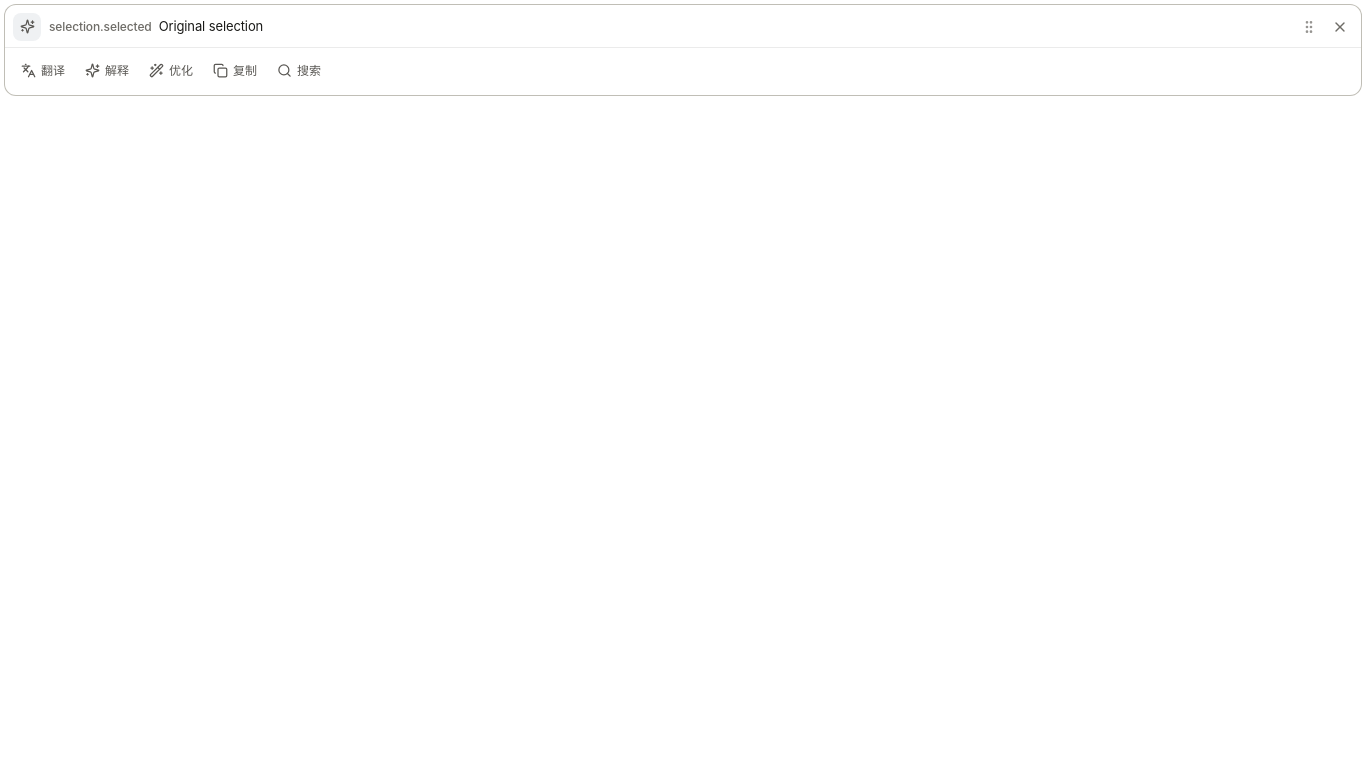
it: SelectionOverlay content and result actions › keeps the optimized result open when guarded replacement fails
expect the button "翻译" is enabled: met, box x1=12 y1=54 x2=74 y2=88
Click the button "优化": (171, 70) x1=140 y1=54 x2=202 y2=88
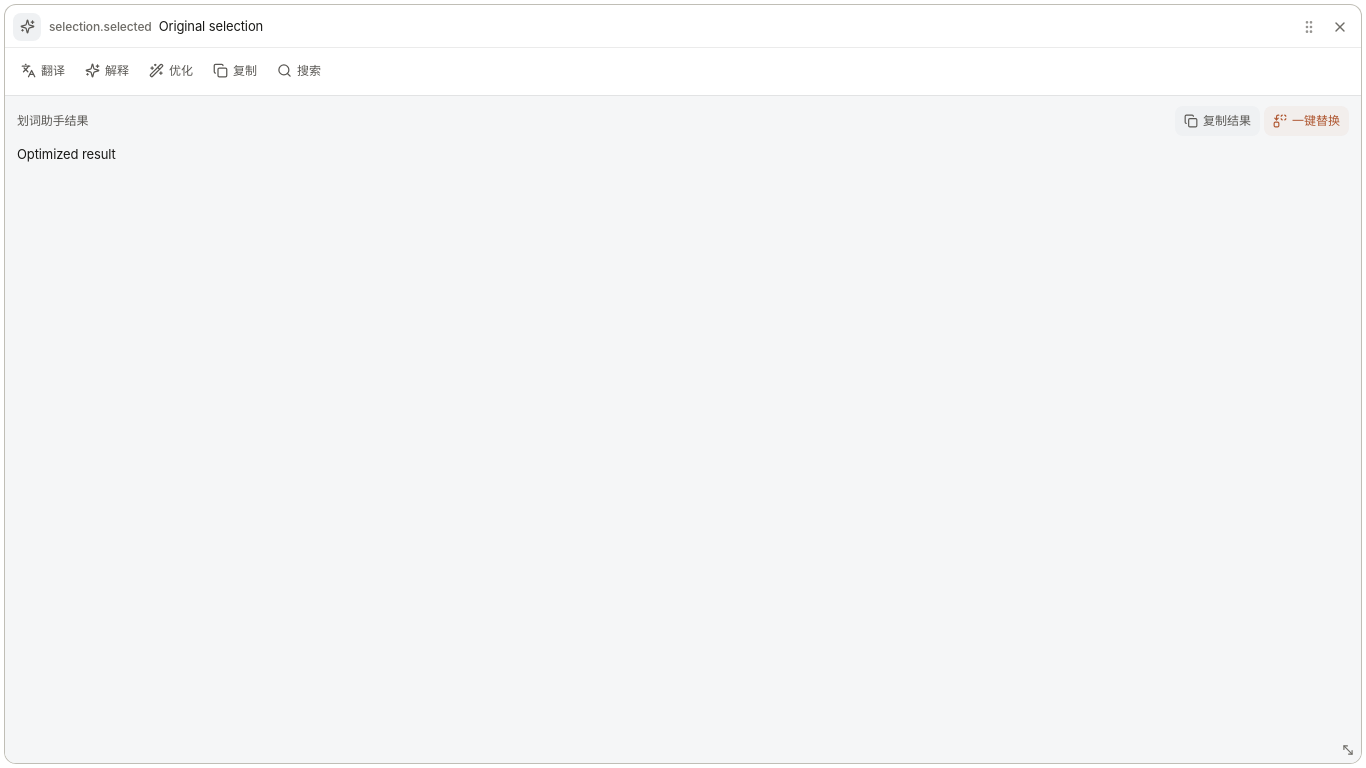
Click the button "一键替换": (1306, 121) x1=1264 y1=106 x2=1349 y2=136
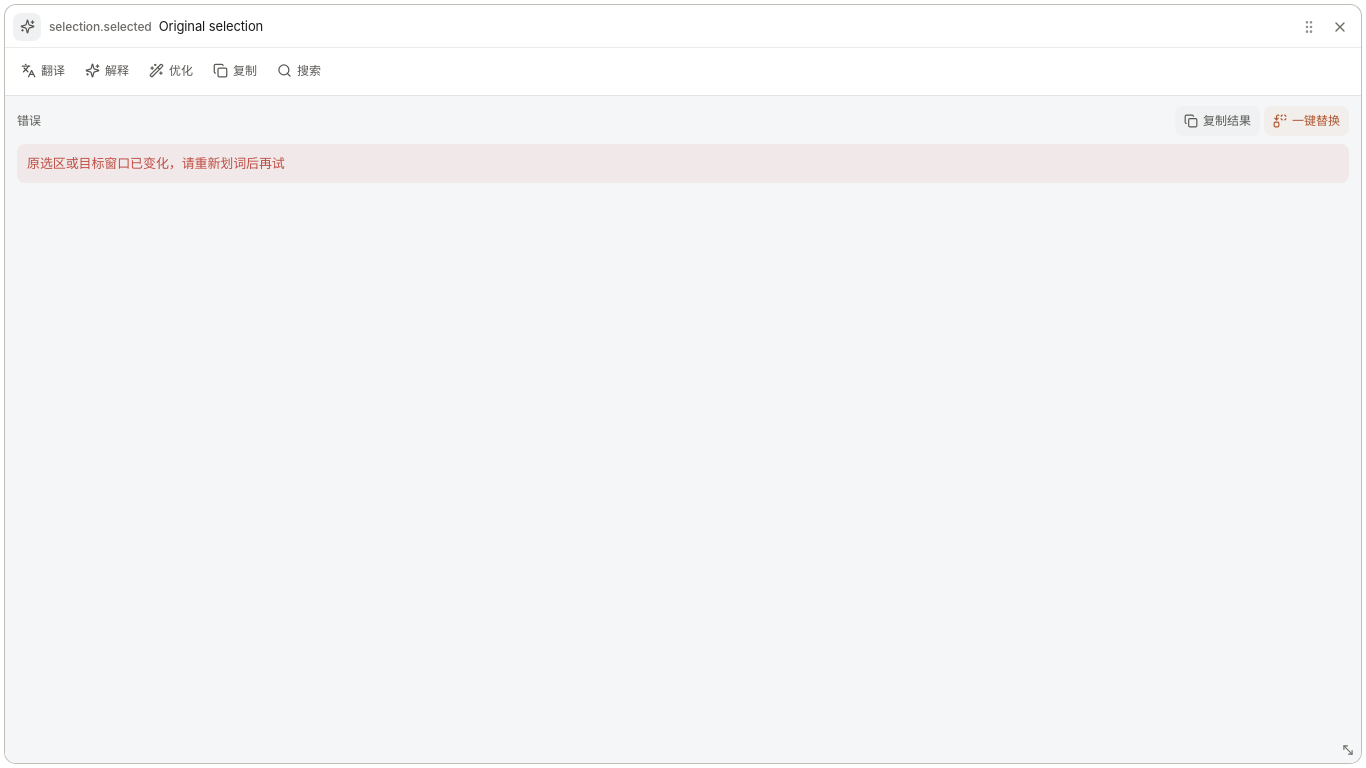
expect the text "原选区或目标窗口已变化，请重新划词后再试" is shown: met, box x1=17 y1=144 x2=1349 y2=183
